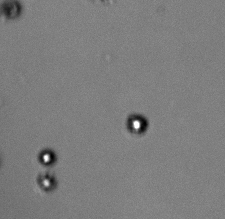Dead Cell: (1, 1, 21, 20)
Living Cell: (126, 114, 148, 135), (36, 174, 58, 191), (38, 149, 57, 166)
